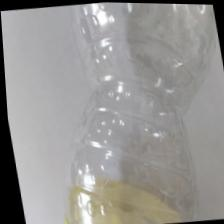plastic: (20, 0, 224, 224)
